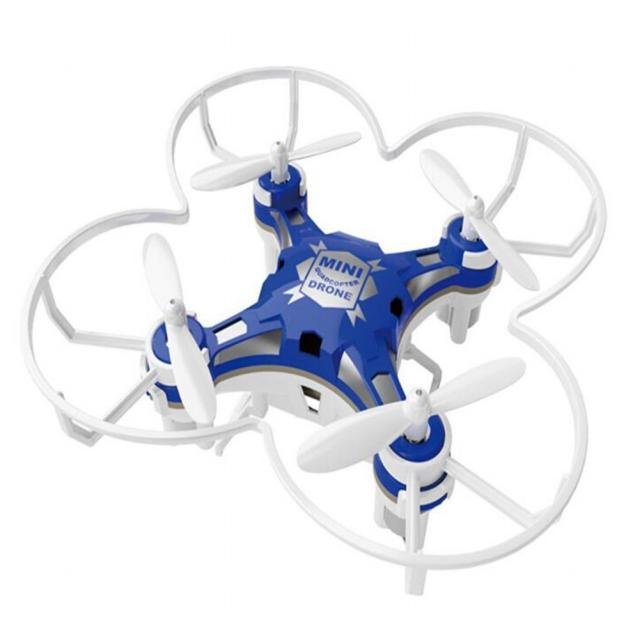drones: (25, 56, 608, 600)
